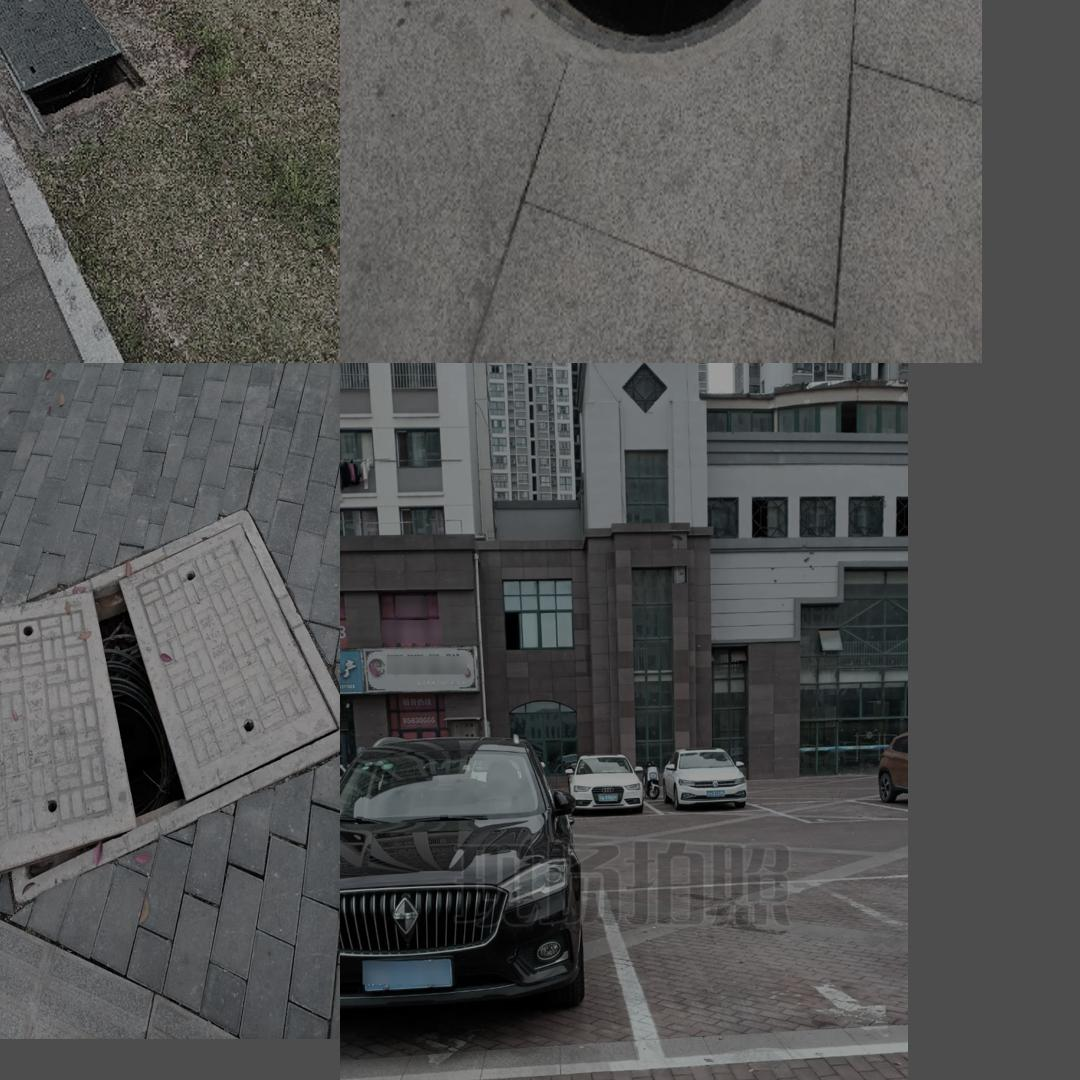uncovered: (0, 508, 337, 910), (0, 0, 150, 131), (490, 0, 805, 55)
